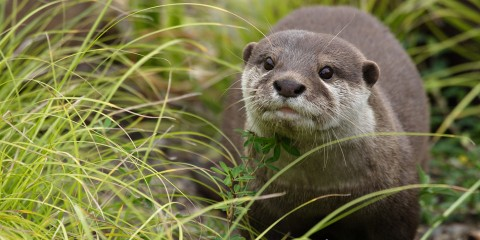otter: (219, 4, 438, 240)
